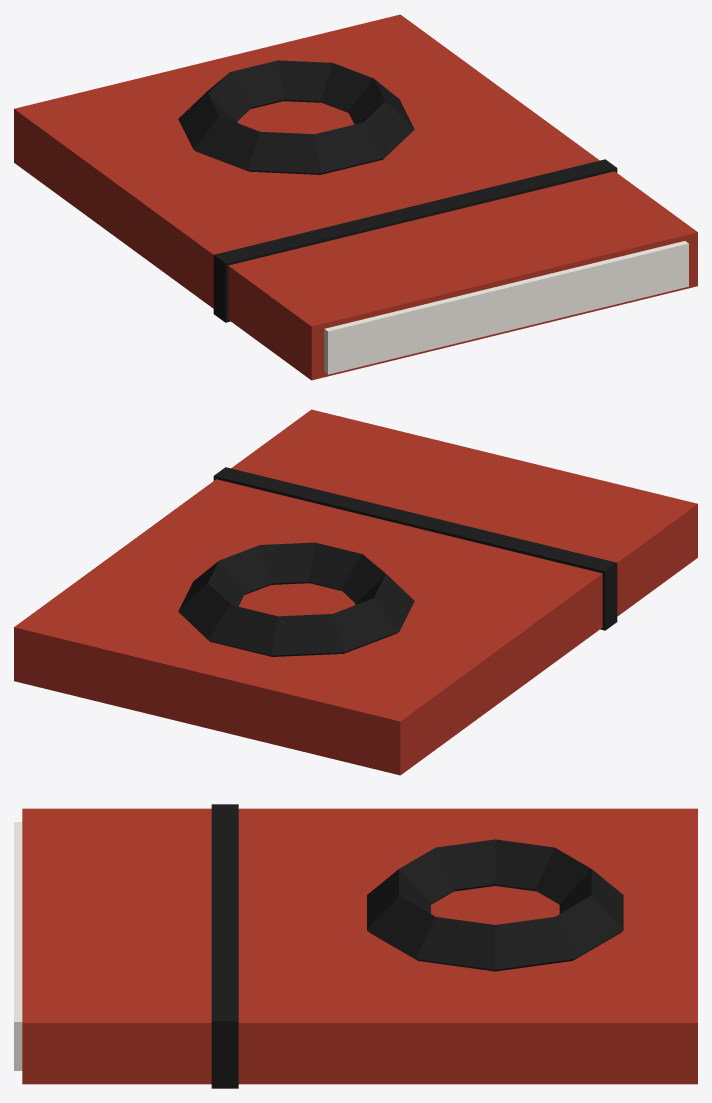
File: commission_book.glb
3 renders of one model, top to bottom at view 1: azimuth 30°, elevation 25°; view 2: azimuth 150°, elevation 25°; view 3: azimuth 270°, elevation 25°, orthographic. The views are drawn at different scales.
Parts seen in each view (by area): view 1: cover_book_red, tire_rubber_black, pages_paper, band_rubber_black; view 2: cover_book_red, tire_rubber_black, band_rubber_black; view 3: cover_book_red, tire_rubber_black, band_rubber_black, pages_paper.
Part boxes in pixels (x1=…): cover_book_red: x1=14, y1=14, x2=697, y2=380; tire_rubber_black: x1=178, y1=60, x2=414, y2=174; pages_paper: x1=324, y1=241, x2=688, y2=374; band_rubber_black: x1=213, y1=159, x2=617, y2=322; cover_book_red: x1=14, y1=409, x2=697, y2=775; tire_rubber_black: x1=178, y1=542, x2=414, y2=656; band_rubber_black: x1=213, y1=467, x2=617, y2=630; cover_book_red: x1=22, y1=808, x2=697, y2=1084; tire_rubber_black: x1=367, y1=839, x2=623, y2=971; band_rubber_black: x1=211, y1=804, x2=238, y2=1088; pages_paper: x1=14, y1=822, x2=22, y2=1070.
Size of the model in its own units: 0.152 by 0.032 by 0.2025.
